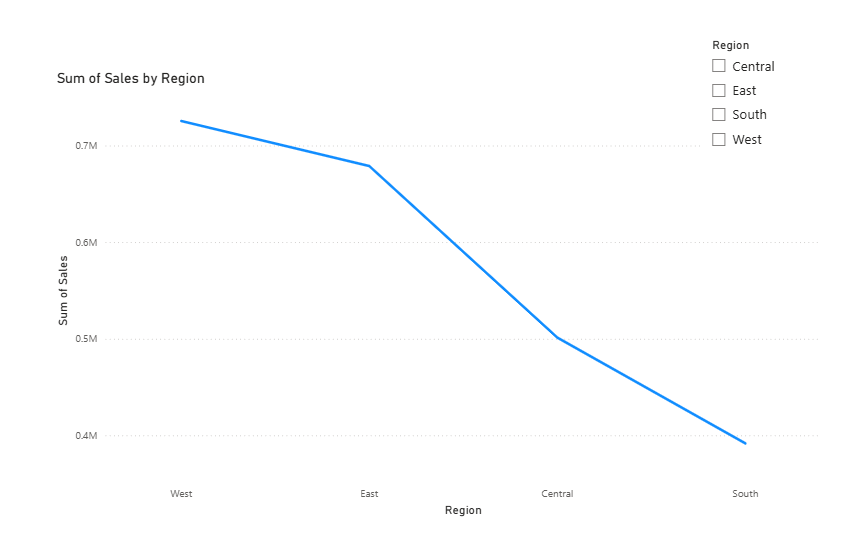

What the dashboard file says about the page in this screenshot:
{"tool":"powerbi","page":{"name":"Page 2","canvas":[1280,720],"ordinal":1},"visuals":[{"type":"lineChart","fields":{"Category":["Orders.Region"],"Y":["Sum(Orders.Sales)"]},"box":[151.5,109.9,917.9,536.2],"z":0},{"type":"slicer","fields":{"Values":["Orders.Region"]},"box":[922.4,66.8,295.6,175.3],"z":1}]}

Visuals, with their boxes on the page's 1280x720 design canvas (x1, y1, x2, y2). These are canvas units, not pixel positions in the 851x547 screenshot, which may show the page scaled, cropped or inside an application window:
lineChart - Orders.Region x Sum(Orders.Sales): x1=152, y1=110, x2=1069, y2=646
slicer - Orders.Region: x1=922, y1=67, x2=1218, y2=242
